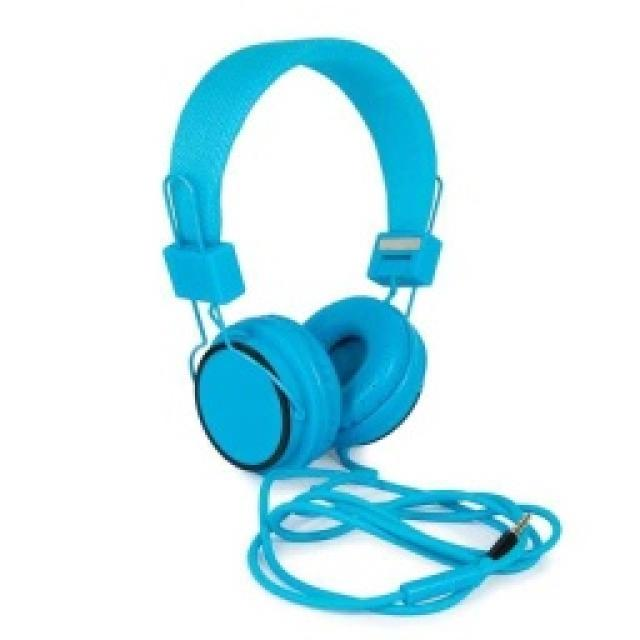headphones: (160, 33, 445, 475)
